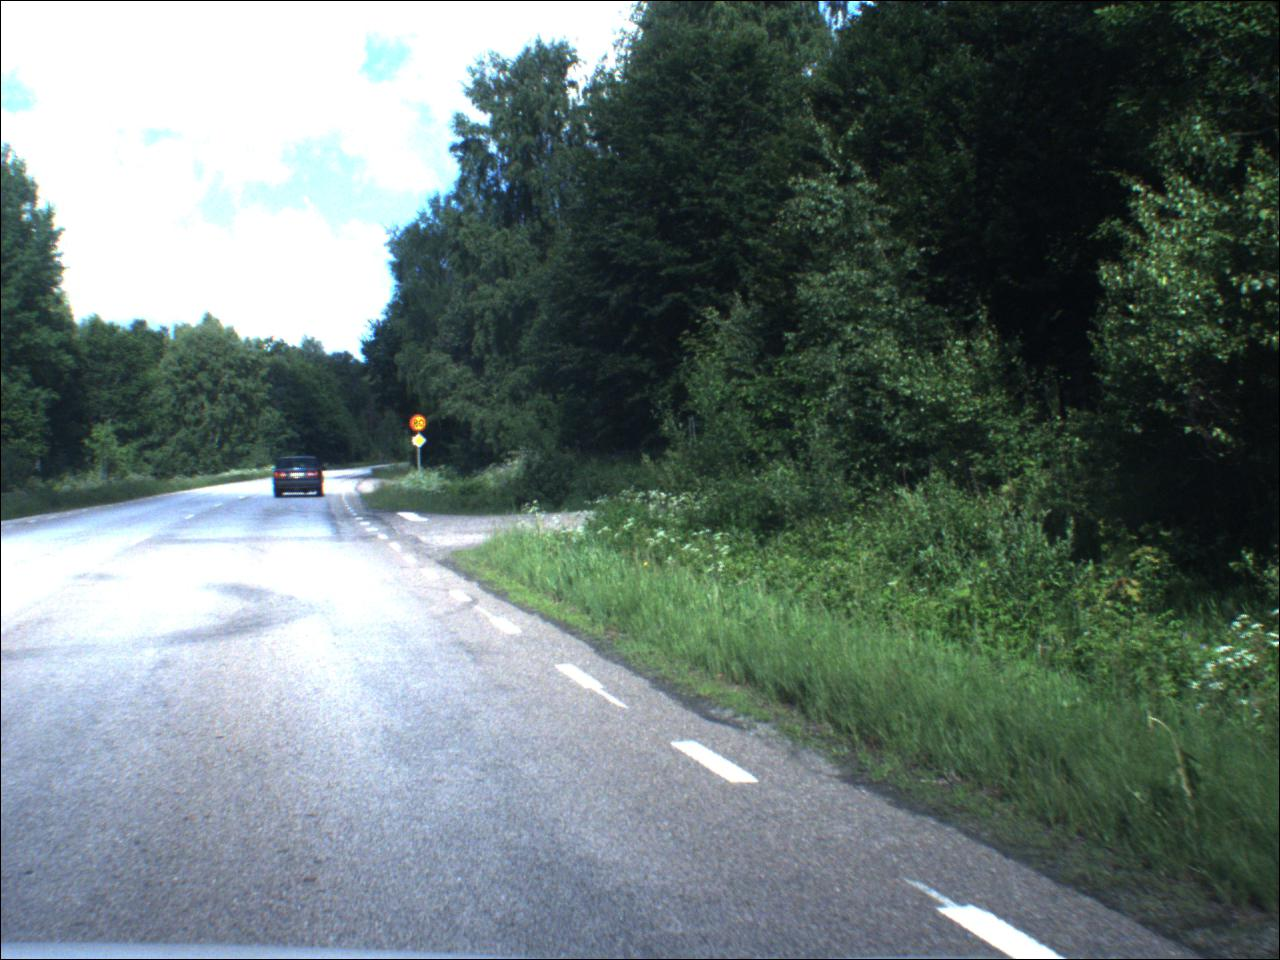80_SIGN: (411, 413, 429, 434)
PRIORITY_ROAD: (413, 435, 428, 450)
